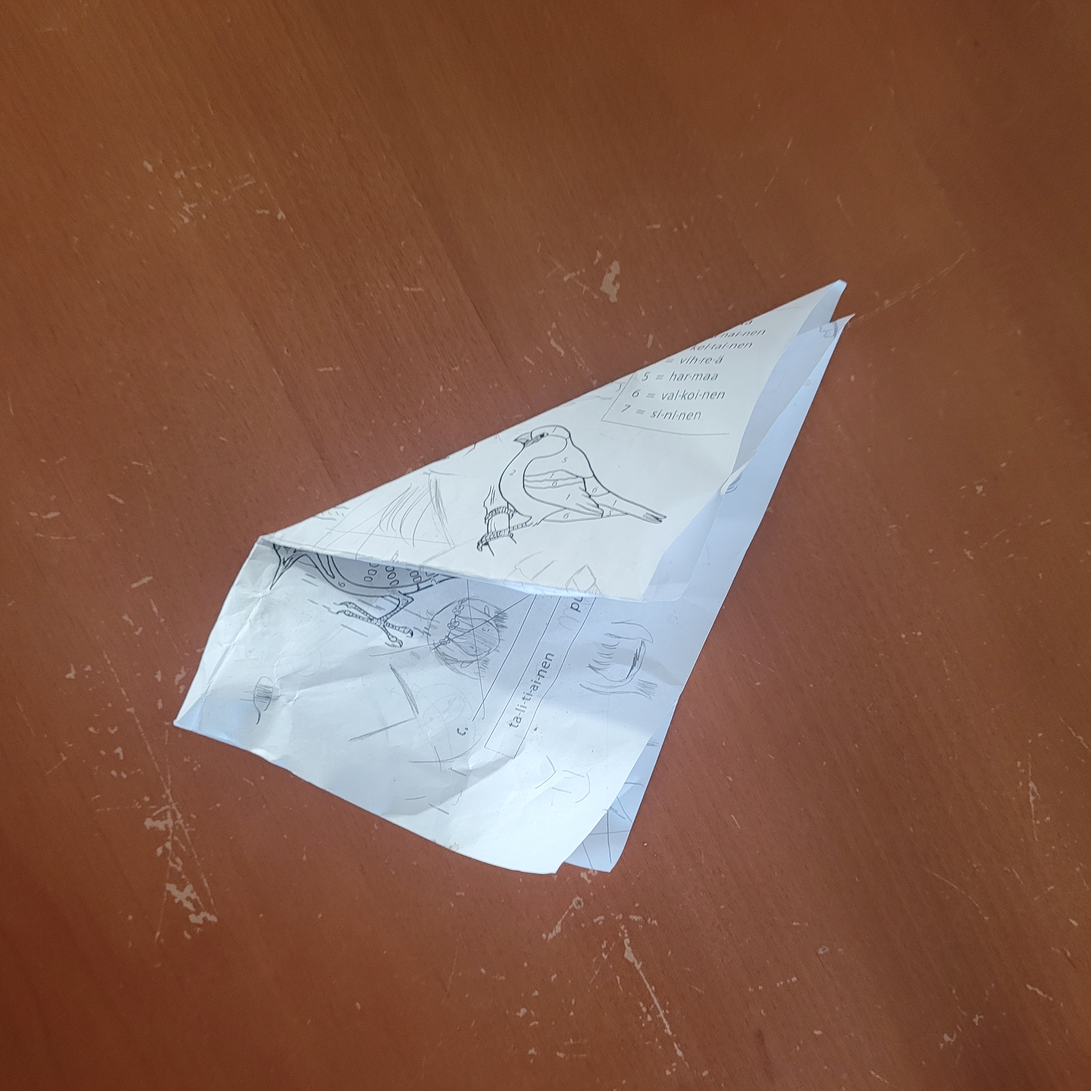paper: (167, 274, 861, 884)
